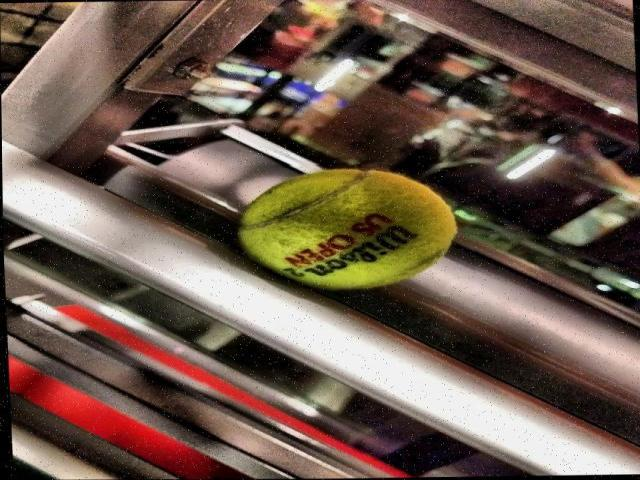tennis-ball: (235, 170, 460, 290)
